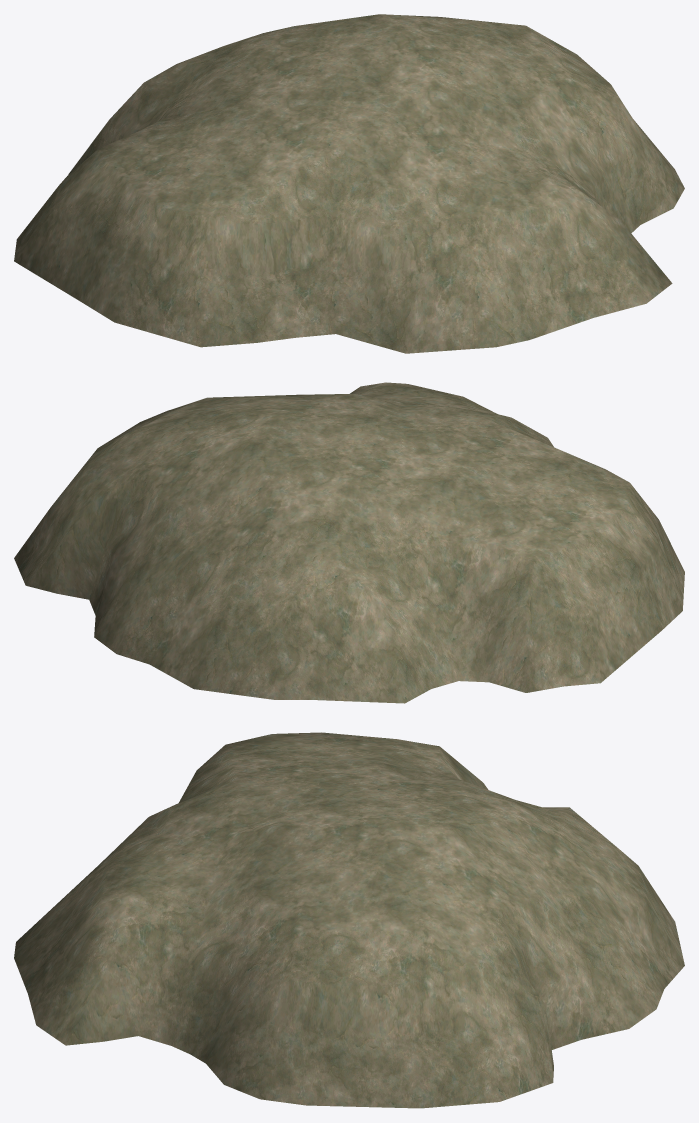
Rendered from EKH_JAIL_PS_JA_CAVE_ROOF_029287.fbx.
The picture shows the model from 3 angles, top to bottom: view 1: azimuth 30°, elevation 25°; view 2: azimuth 150°, elevation 25°; view 3: azimuth 270°, elevation 25°; orthographic projection. The views are drawn at different scales.
Parts seen in each view (by area): view 1: EKH_JAIL_PS_JA_CAVE_ROOF_029287; view 2: EKH_JAIL_PS_JA_CAVE_ROOF_029287; view 3: EKH_JAIL_PS_JA_CAVE_ROOF_029287.
Boxes of the visible parts, <box> form: EKH_JAIL_PS_JA_CAVE_ROOF_029287: <box>14,14,684,353</box>; EKH_JAIL_PS_JA_CAVE_ROOF_029287: <box>14,382,684,703</box>; EKH_JAIL_PS_JA_CAVE_ROOF_029287: <box>14,732,684,1108</box>.
Bounding box in the file's own units: 121572 × 32025 × 115125.
Materials: 1 (1 with a texture image).
